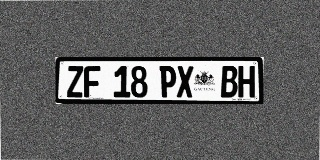1: (114, 66, 130, 97)
8: (131, 66, 147, 97)
B: (221, 66, 238, 97)
F: (84, 66, 100, 97)
H: (238, 66, 255, 98)
P: (159, 66, 176, 97)
X: (177, 66, 193, 97)
Z: (67, 66, 83, 97)
